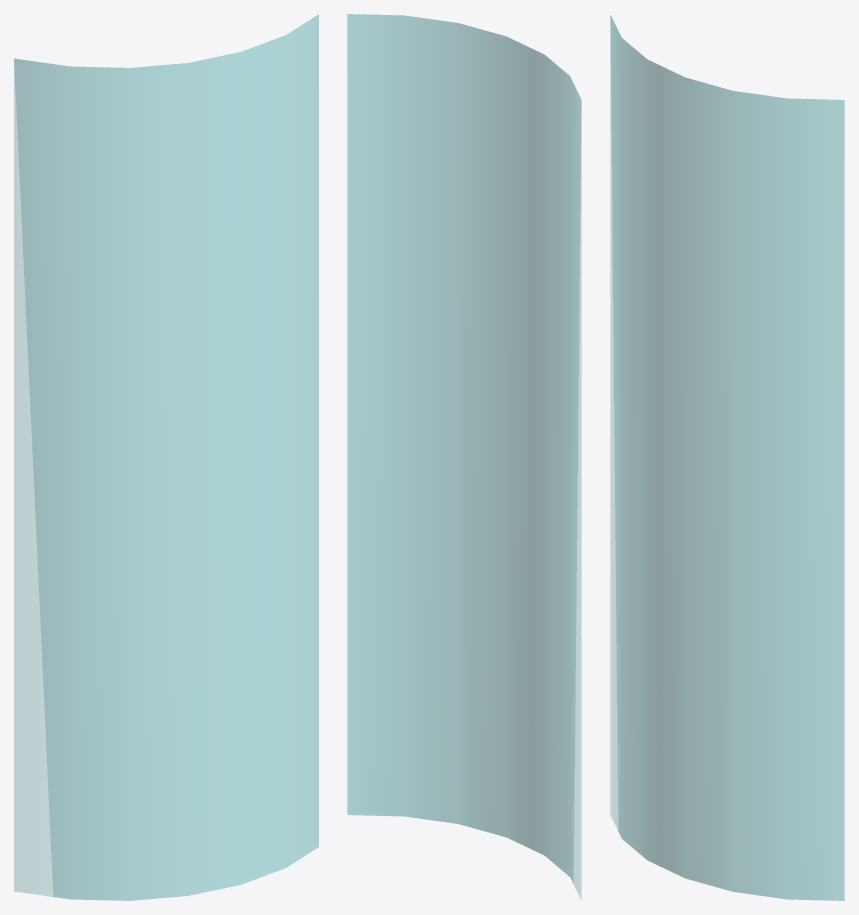
File: original-4.obj
3 views of the same model, side by side, from view 1: azimuth 30°, elevation 25°; view 2: azimuth 150°, elevation 25°; view 3: azimuth 330°, elevation 25° (orthographic). The views are drawn at different scales.
Visible parts, largest first — view 1: mesh4/mesh4-geometry#mesh4-geometry; view 2: mesh4/mesh4-geometry#mesh4-geometry; view 3: mesh4/mesh4-geometry#mesh4-geometry.
Part boxes in pixels (x1,y1,x2,y2): mesh4/mesh4-geometry#mesh4-geometry: (14, 14, 318, 900); mesh4/mesh4-geometry#mesh4-geometry: (347, 14, 581, 899); mesh4/mesh4-geometry#mesh4-geometry: (610, 15, 844, 900).
Size of the model in its own units: 0.0597 by 0.1734 by 0.0188.
